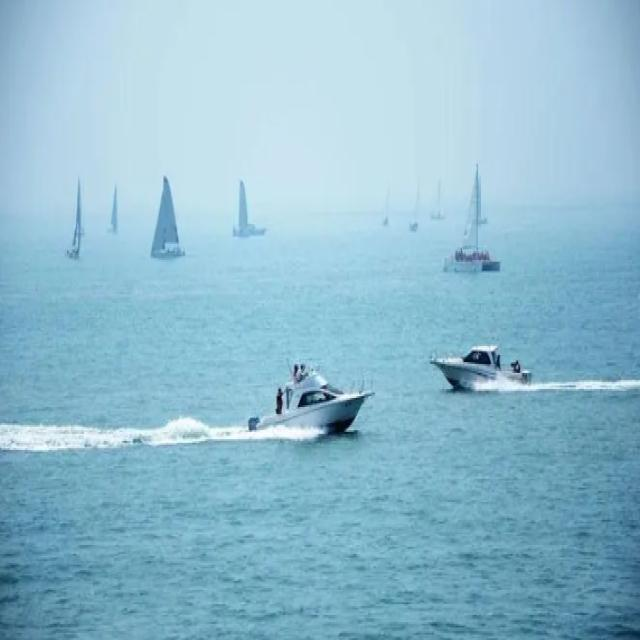houseboat: (246, 360, 374, 442), (428, 332, 533, 399)
sailboat: (441, 161, 504, 275), (146, 174, 186, 261), (228, 177, 269, 242), (64, 175, 86, 264), (379, 178, 396, 234), (106, 184, 124, 236), (408, 173, 422, 234), (432, 176, 444, 226)
